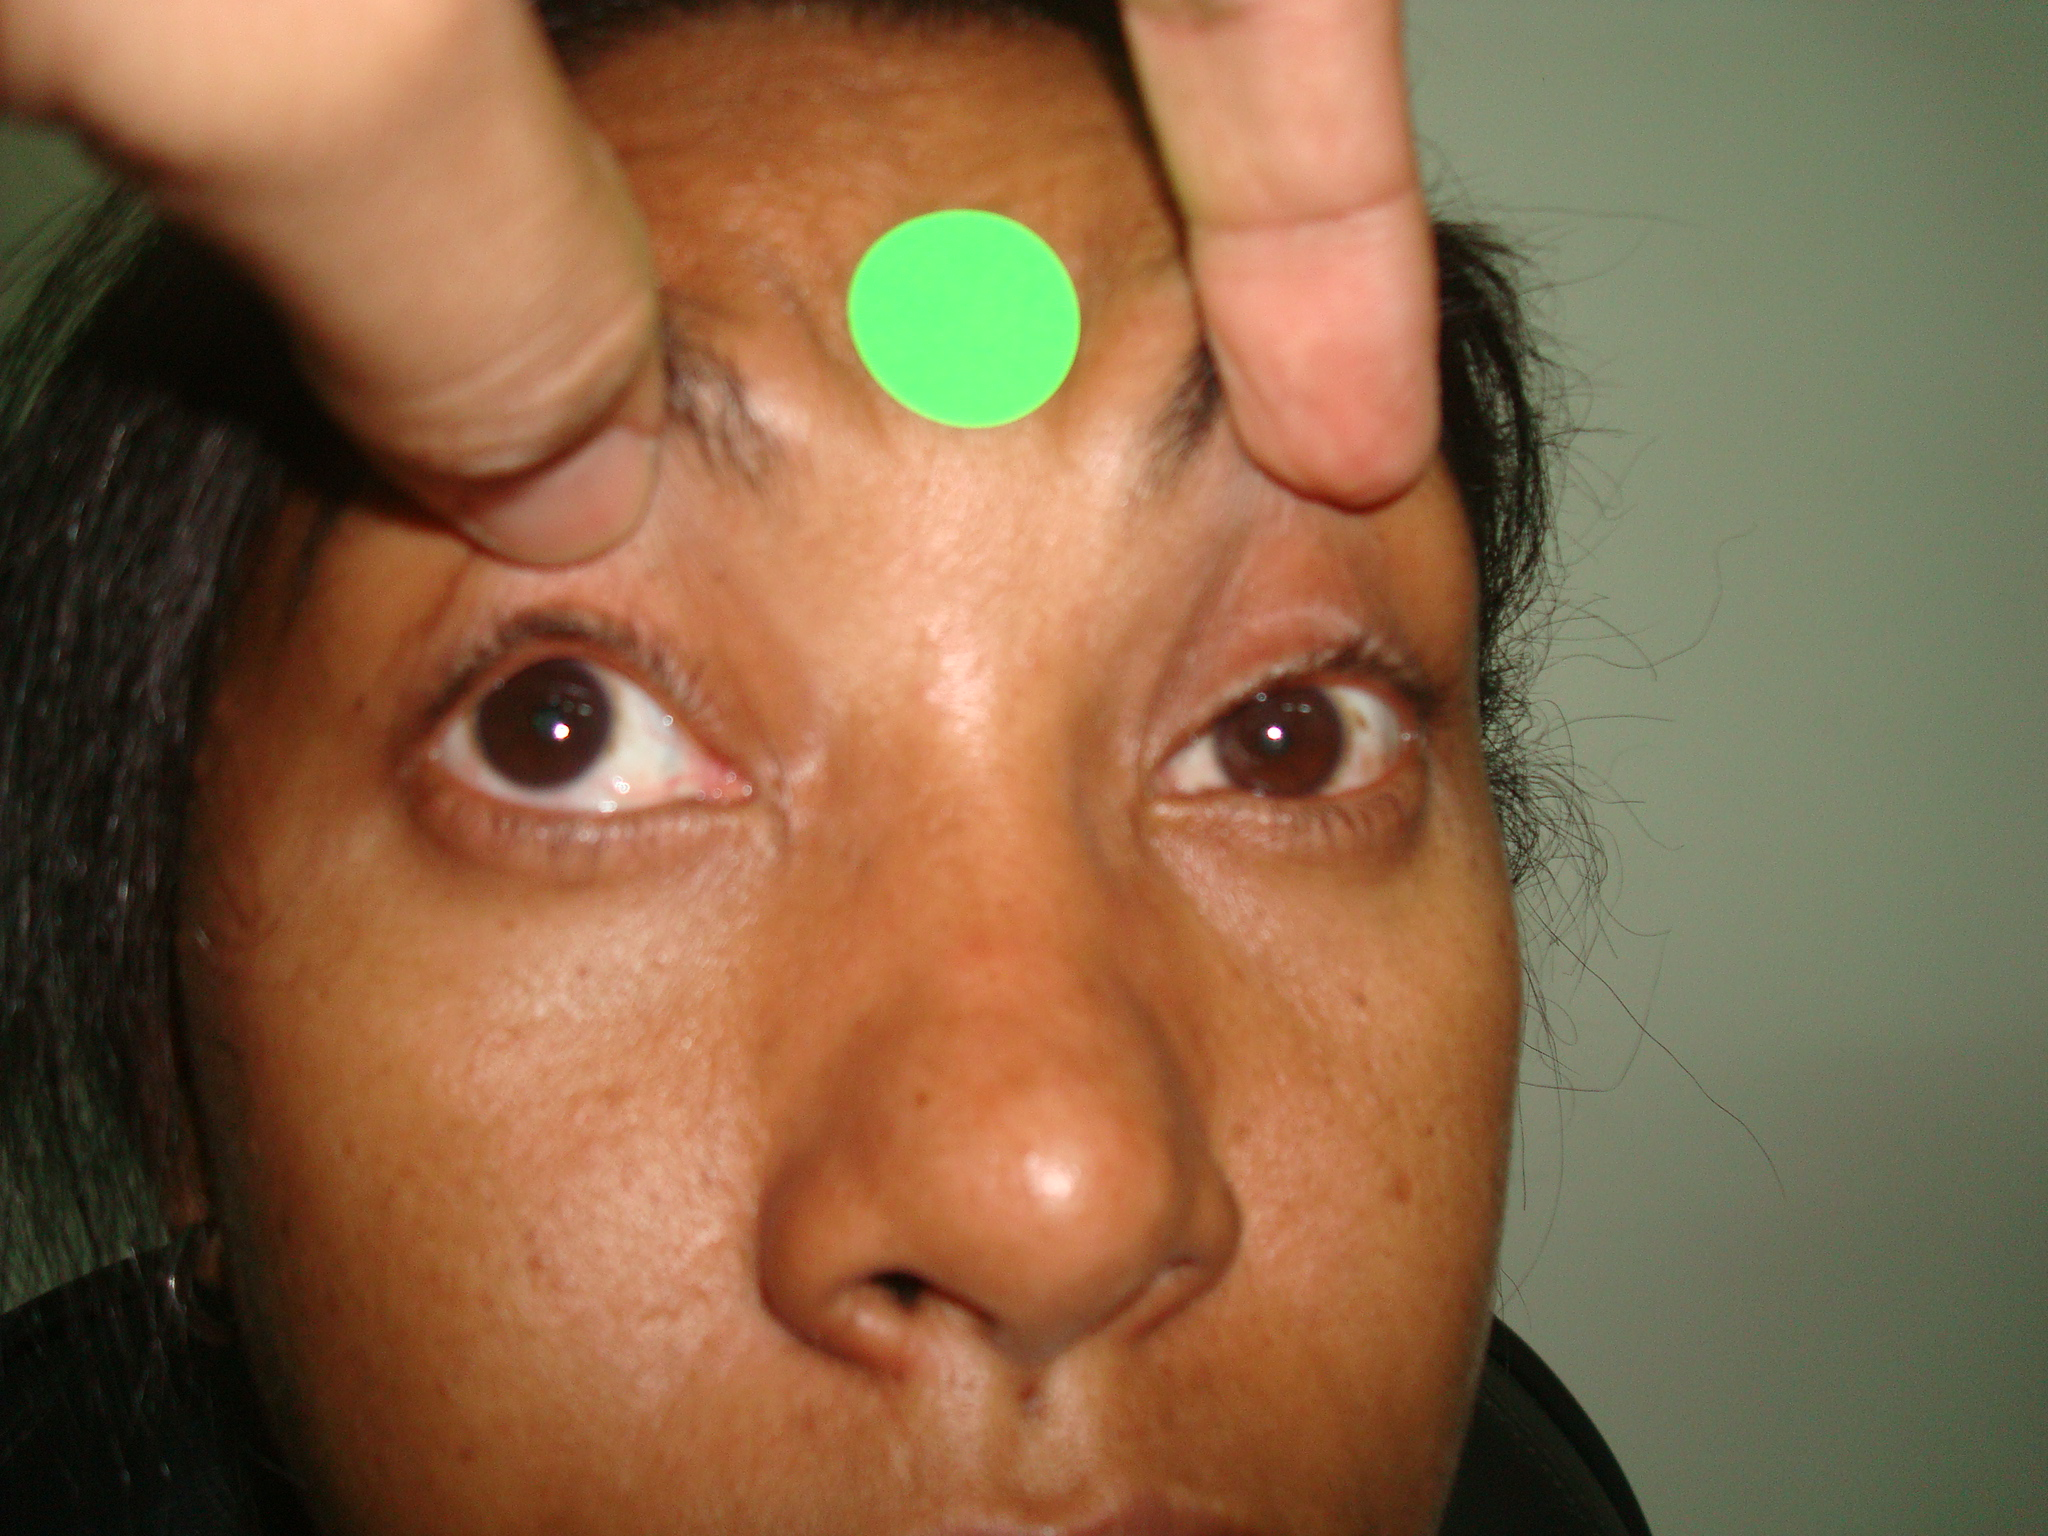flash: (1264, 723, 1284, 744), (552, 721, 571, 742)
limbo: (471, 653, 611, 791), (1214, 691, 1335, 792)
